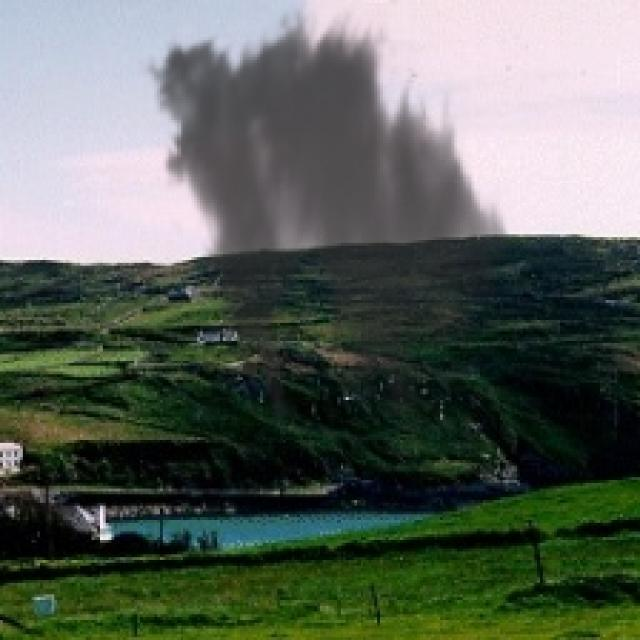Smoke: (137, 2, 520, 418)
